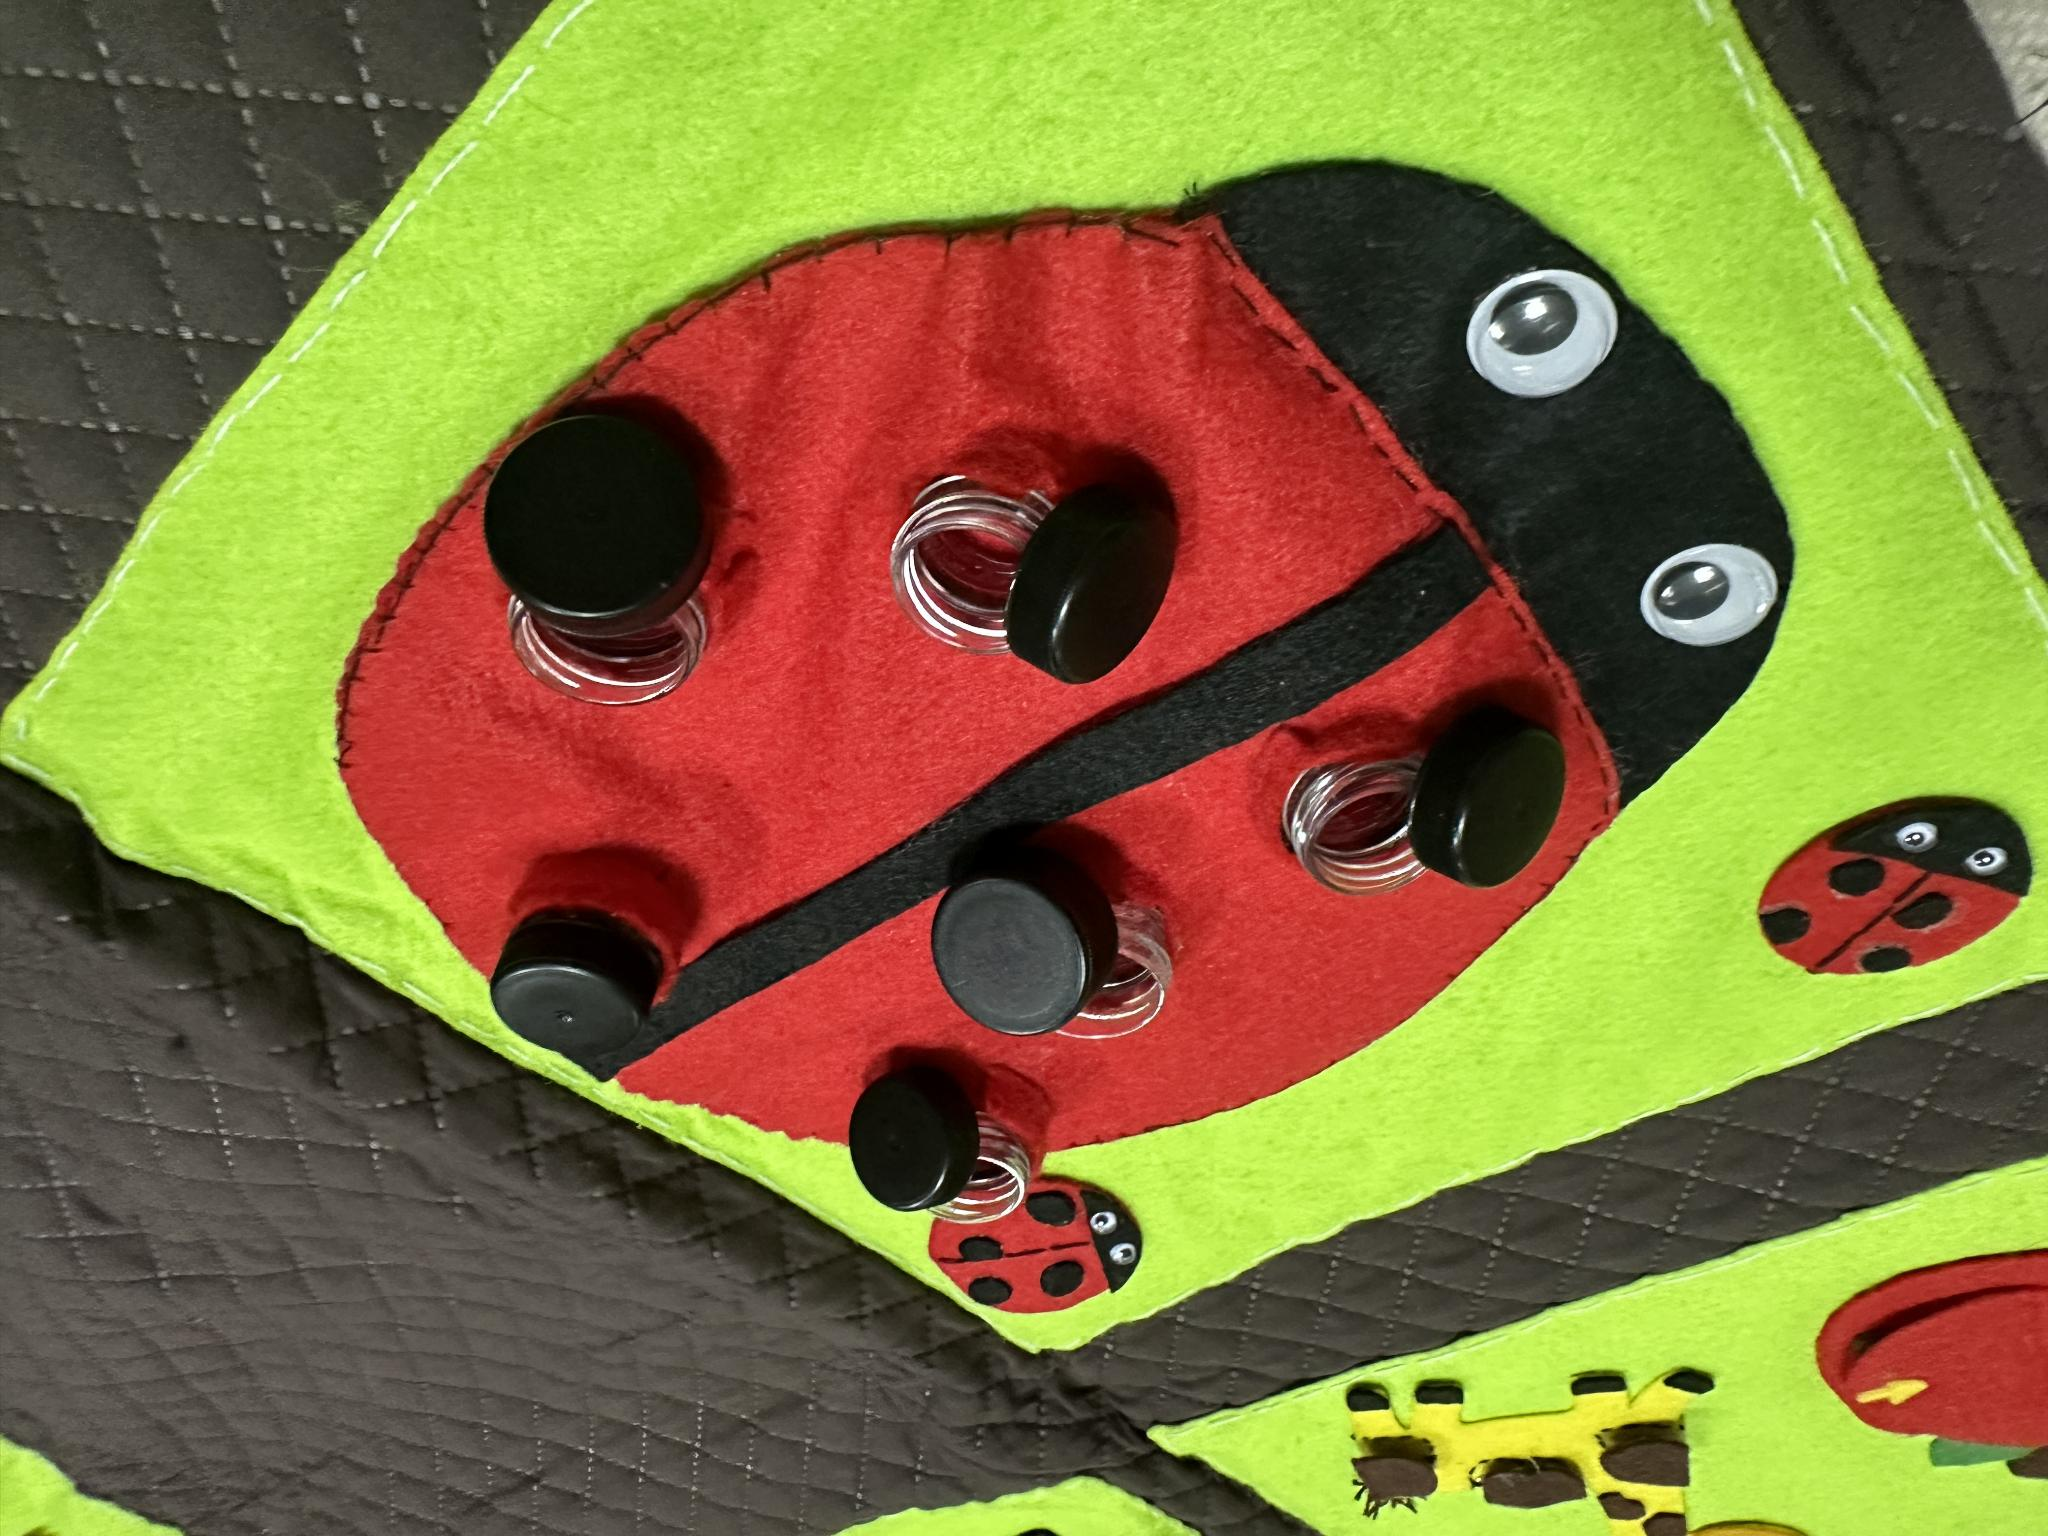cap_ng: (866, 445, 1190, 705), (476, 410, 739, 728), (1268, 684, 1576, 908), (918, 834, 1193, 1063), (840, 1063, 1061, 1249)
cap_ok: (477, 883, 700, 1084)
